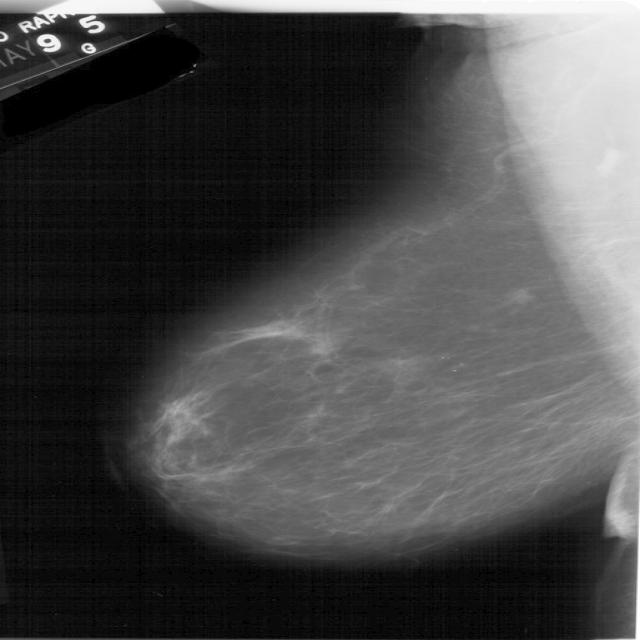tumour: (504, 285, 536, 304)
